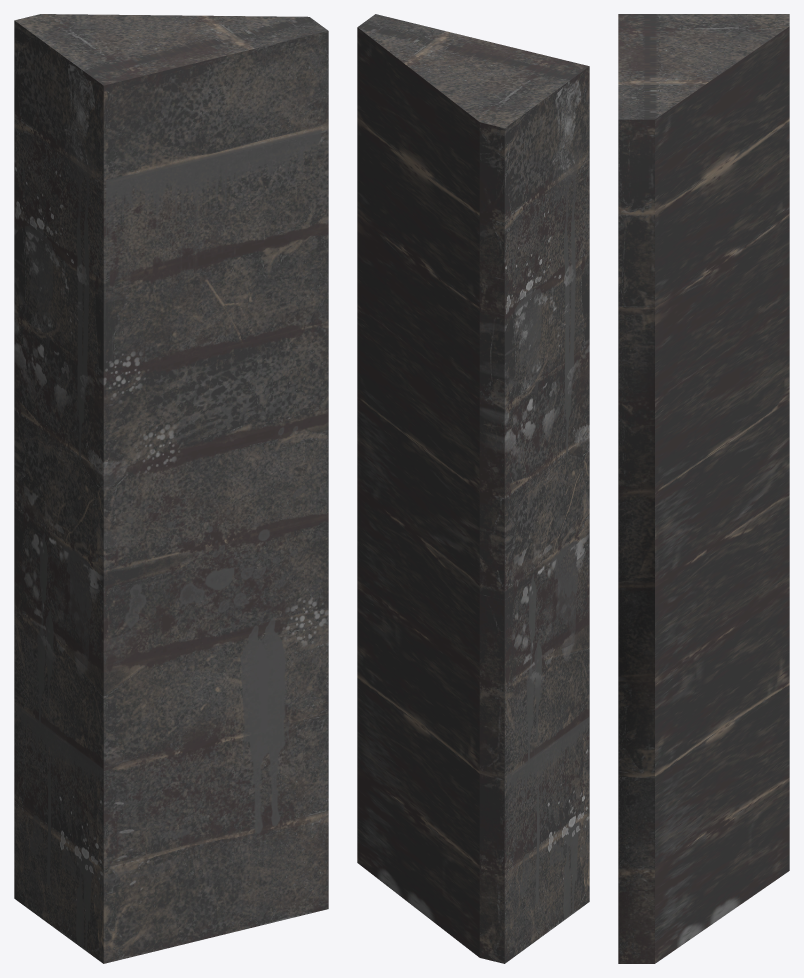
The model's file is SM_CastleCorner.FBX.
3 views of the same model, side by side, from view 1: azimuth 30°, elevation 25°; view 2: azimuth 150°, elevation 25°; view 3: azimuth 270°, elevation 25° (orthographic). The views are drawn at different scales.
Visible parts, largest first — view 1: SM_CastleCorner; view 2: SM_CastleCorner; view 3: SM_CastleCorner.
Boxes of the visible parts, left/top/right/bottom form: SM_CastleCorner: left=14, top=14, right=328, bottom=963; SM_CastleCorner: left=357, top=14, right=589, bottom=963; SM_CastleCorner: left=618, top=14, right=789, bottom=963.
Size of the model in its own units: 80.4 by 55.21 by 300.
